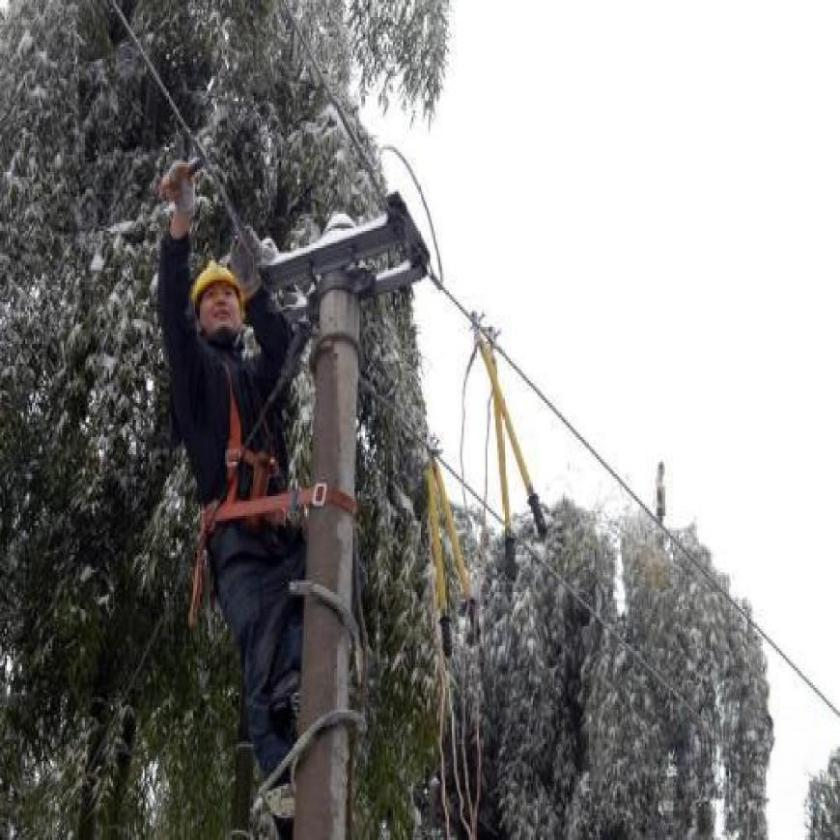Con_casco: (188, 251, 244, 334)
